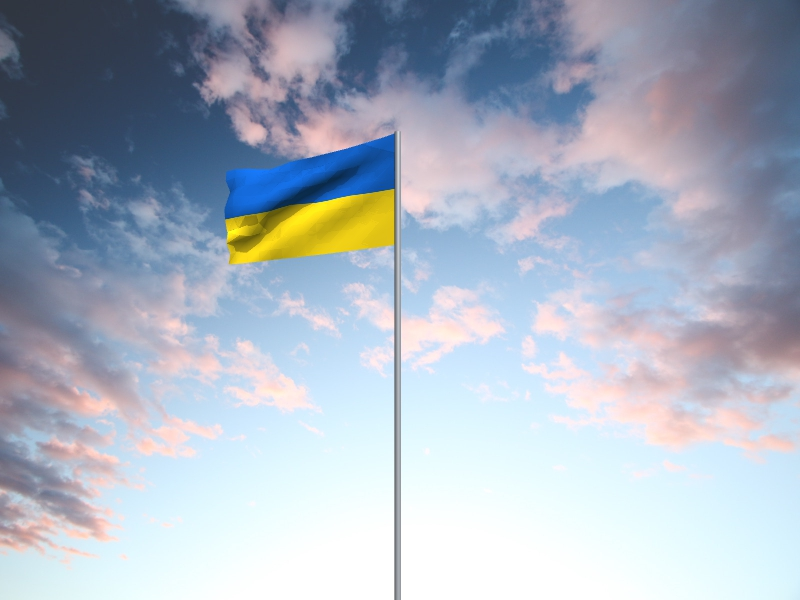ua: (224, 134, 394, 266)
